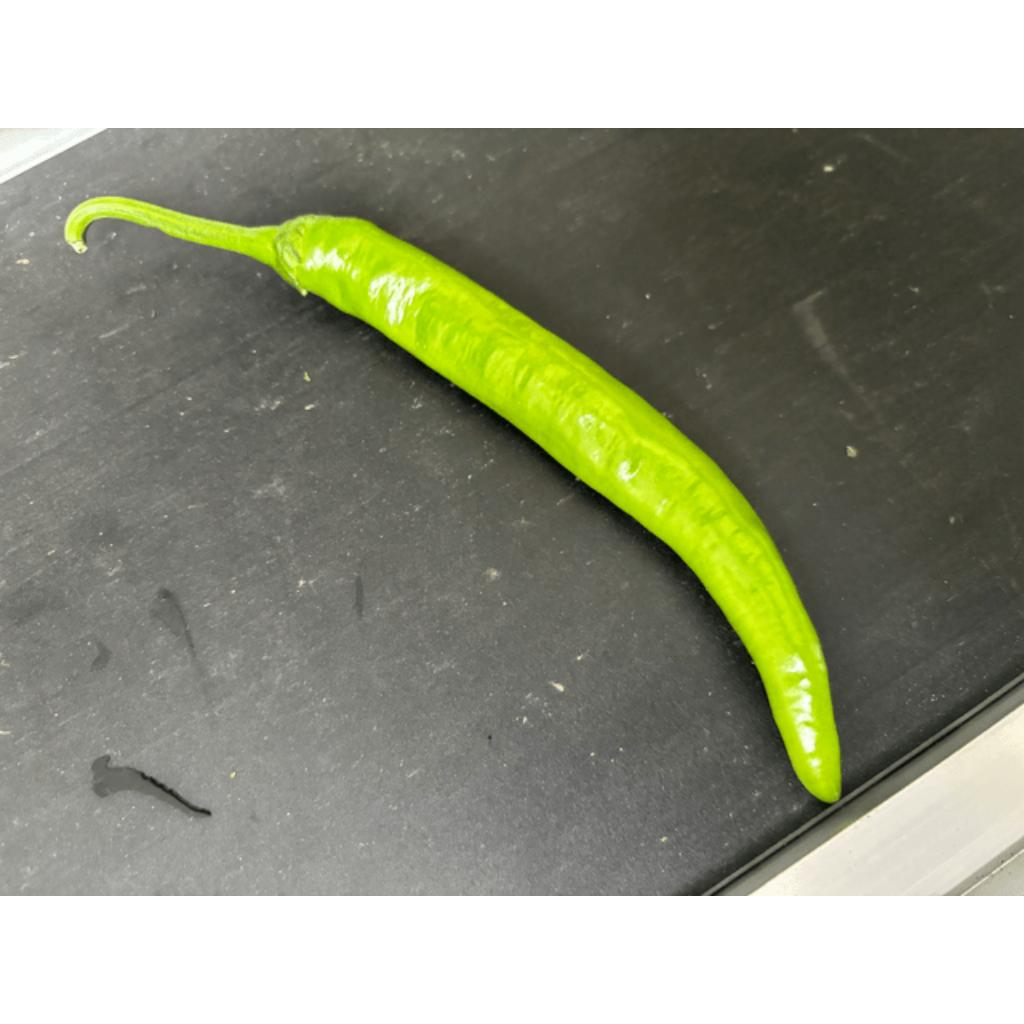chili: (270, 209, 844, 803)
